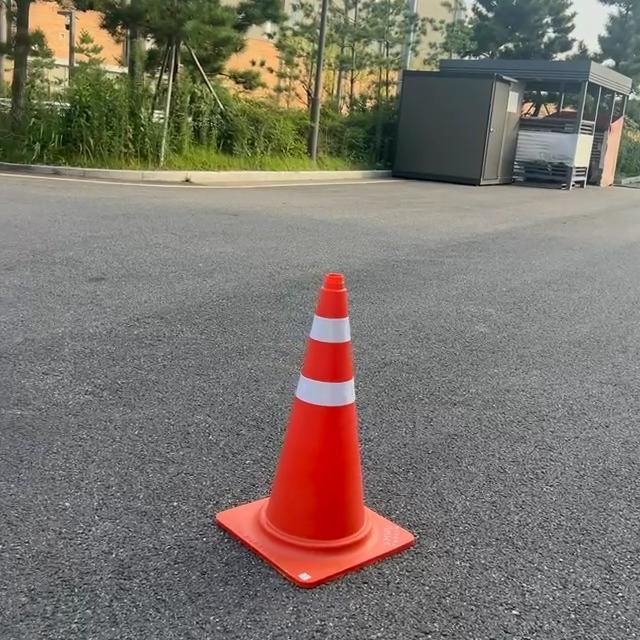fallen_object: (193, 260, 445, 590)
